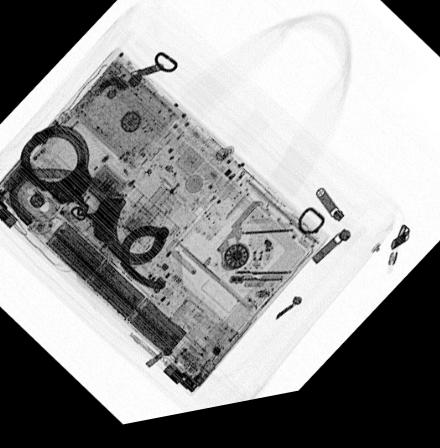HandCuffs: (14, 126, 172, 303)
